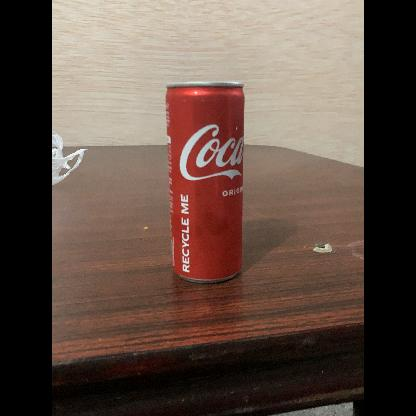Tin_Can: (163, 73, 247, 285)
